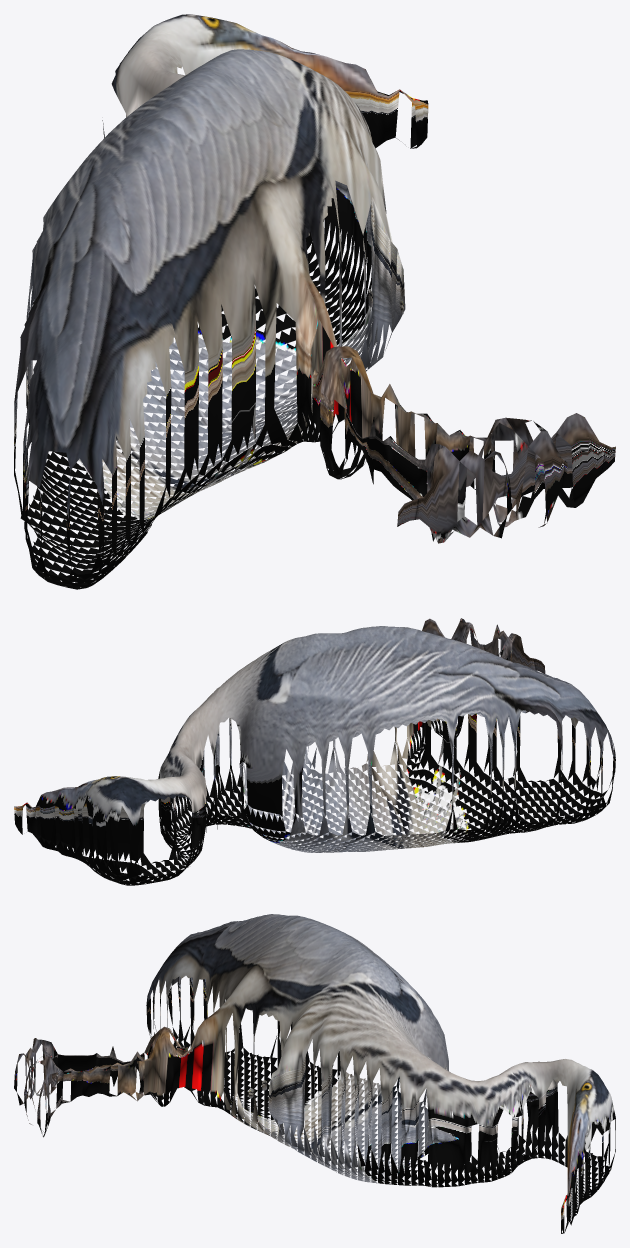
The model's file is heron.glb.
The picture shows the model from 3 angles, top to bottom: view 1: azimuth 30°, elevation 25°; view 2: azimuth 150°, elevation 25°; view 3: azimuth 270°, elevation 25°; orthographic projection. The views are drawn at different scales.
Parts seen in each view (by area): view 1: heron_obj; view 2: heron_obj; view 3: heron_obj.
Part boxes in pixels (x1,y1,x2,y2): heron_obj: (14,14,615,589); heron_obj: (14,618,615,885); heron_obj: (14,914,615,1233).
Size of the model in its own units: 1.55 by 0.7861 by 1.88.
1 material, 1 textured.
